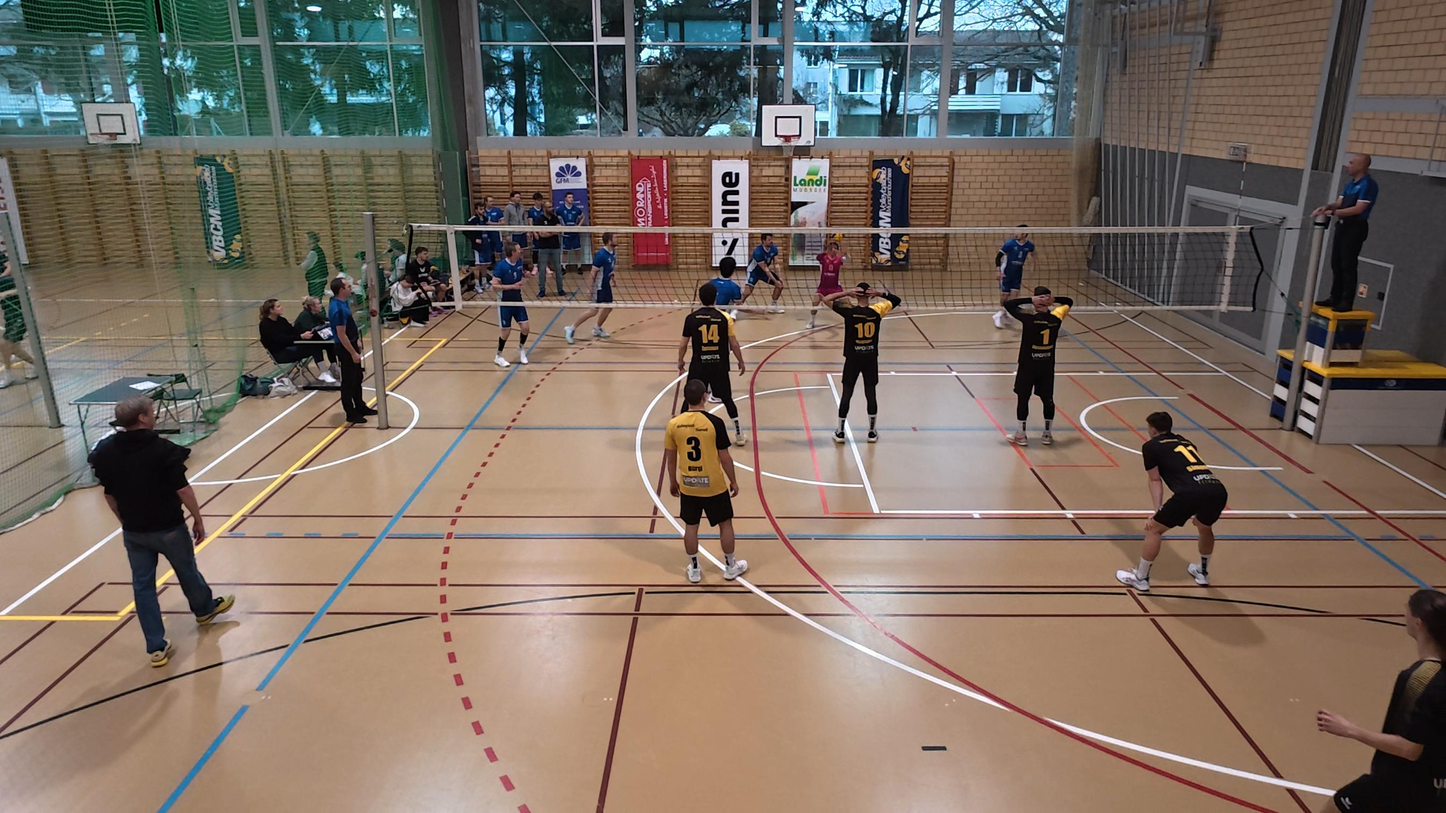Player: (1117, 411, 1228, 592), (659, 378, 749, 582), (818, 284, 901, 444), (676, 283, 746, 446), (1001, 287, 1072, 446), (565, 233, 616, 343), (490, 243, 531, 367), (994, 224, 1034, 329), (742, 232, 788, 316)
Receive: (804, 232, 848, 332)
ball: (826, 228, 848, 244)
